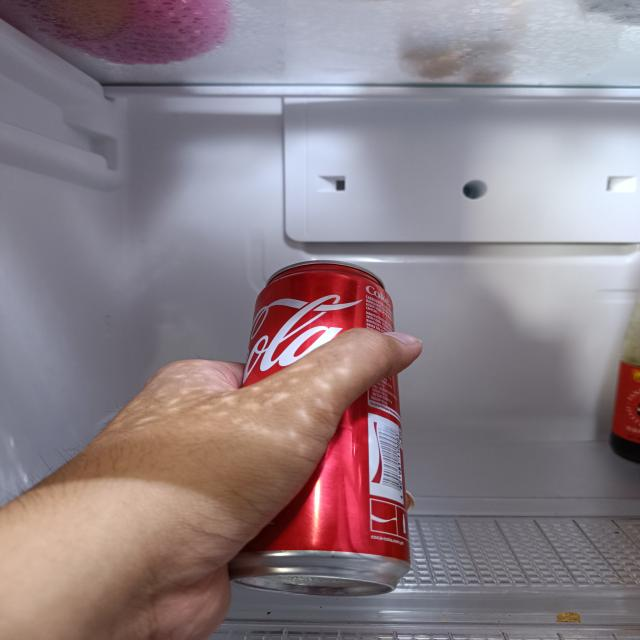coke: (237, 265, 398, 590)
